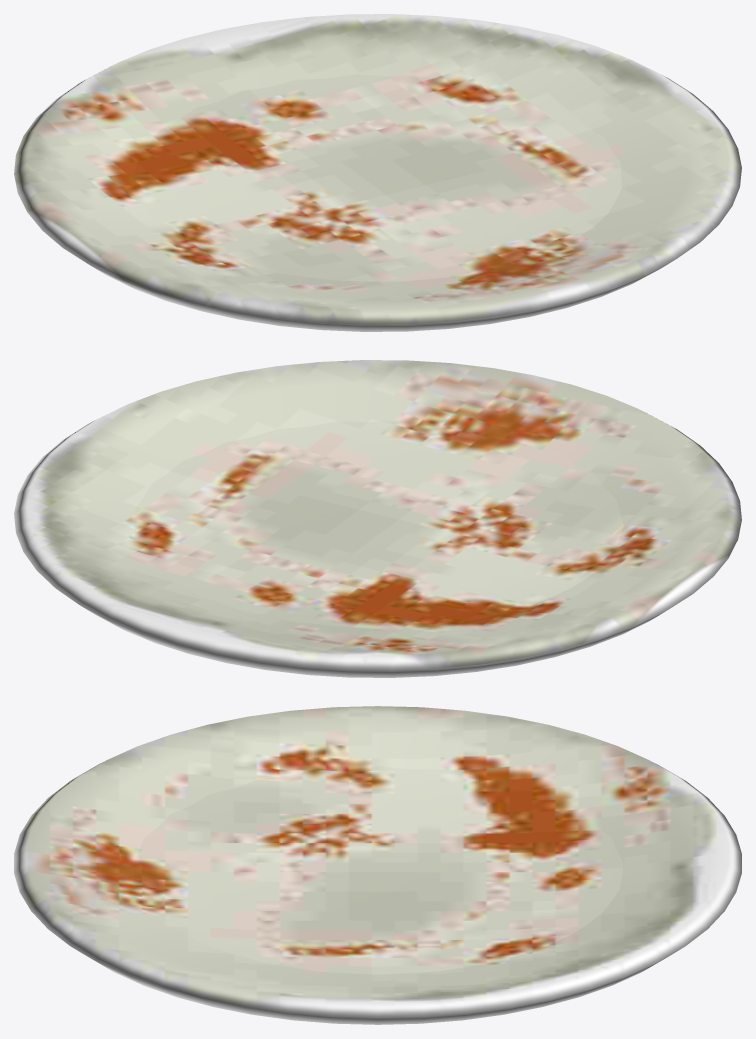
The model's file is DIRTY PLATE.fbx.
The picture shows the model from 3 angles, top to bottom: view 1: azimuth 30°, elevation 25°; view 2: azimuth 150°, elevation 25°; view 3: azimuth 270°, elevation 25°; orthographic projection.
Parts seen in each view (by area): view 1: pCylinder1; view 2: pCylinder1; view 3: pCylinder1.
Part boxes in pixels (x1,y1,x2,y2): pCylinder1: [14, 14, 741, 331]; pCylinder1: [14, 360, 741, 677]; pCylinder1: [14, 706, 741, 1024].
Size of the model in its own units: 99.21 by 11 by 99.02.
Materials: 1 (1 with a texture image).
